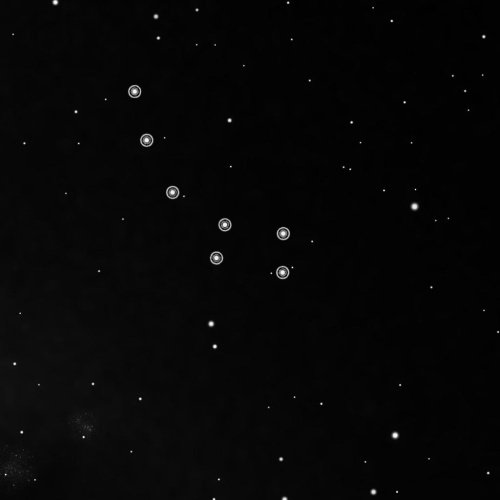ursa_minor: (121, 80, 297, 283)
